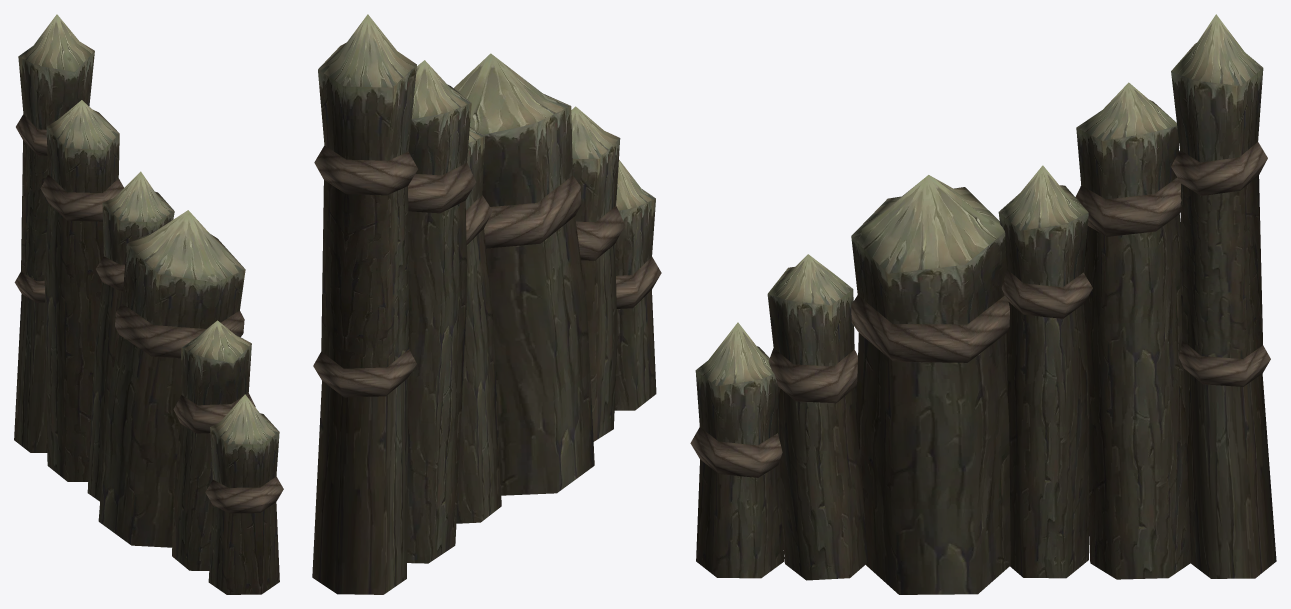
The picture shows the model from 3 angles, left to right: view 1: azimuth 30°, elevation 25°; view 2: azimuth 150°, elevation 25°; view 3: azimuth 270°, elevation 25°; orthographic projection. The views are drawn at different scales.
Size of the model in its own units: 1.22 by 4.46 by 4.29.
Materials: 1 (1 with a texture image).
